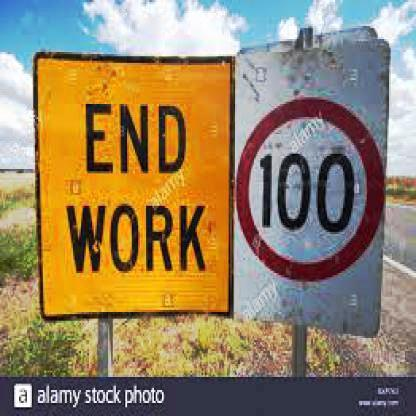Speed Limit -100-: (231, 92, 386, 284)
